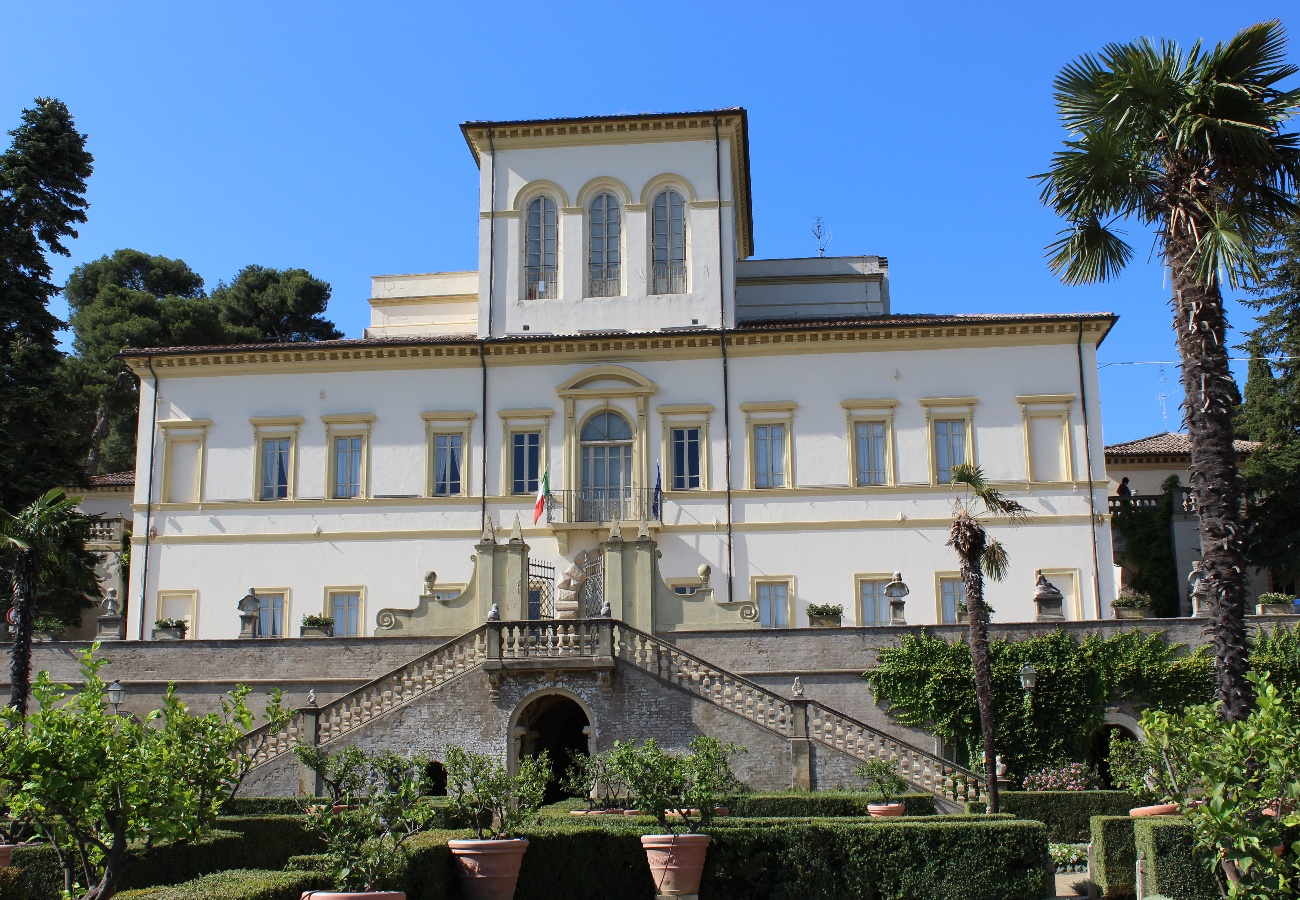Villa Caprile: (111, 118, 1121, 676)
